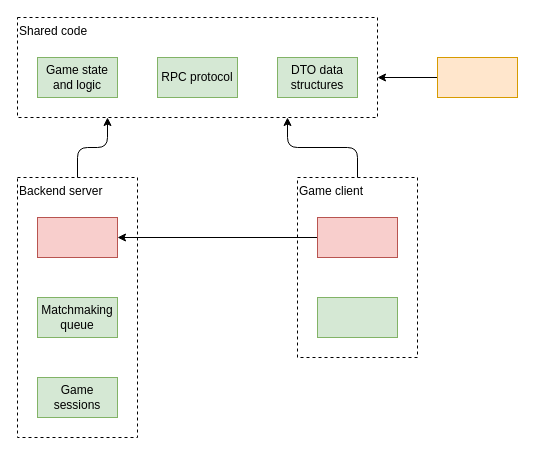
Image size: 535x455. Some labels were removed from this diagram. The shapes that lost their labels are listed below. From the top down, each one's centre as x and y in pixels, then its label:
At point (477, 77): "Unit test suite".
At point (77, 237): "WebSocket server".
At point (357, 237): "WebSocket client".
At point (357, 317): "Presentation components".
